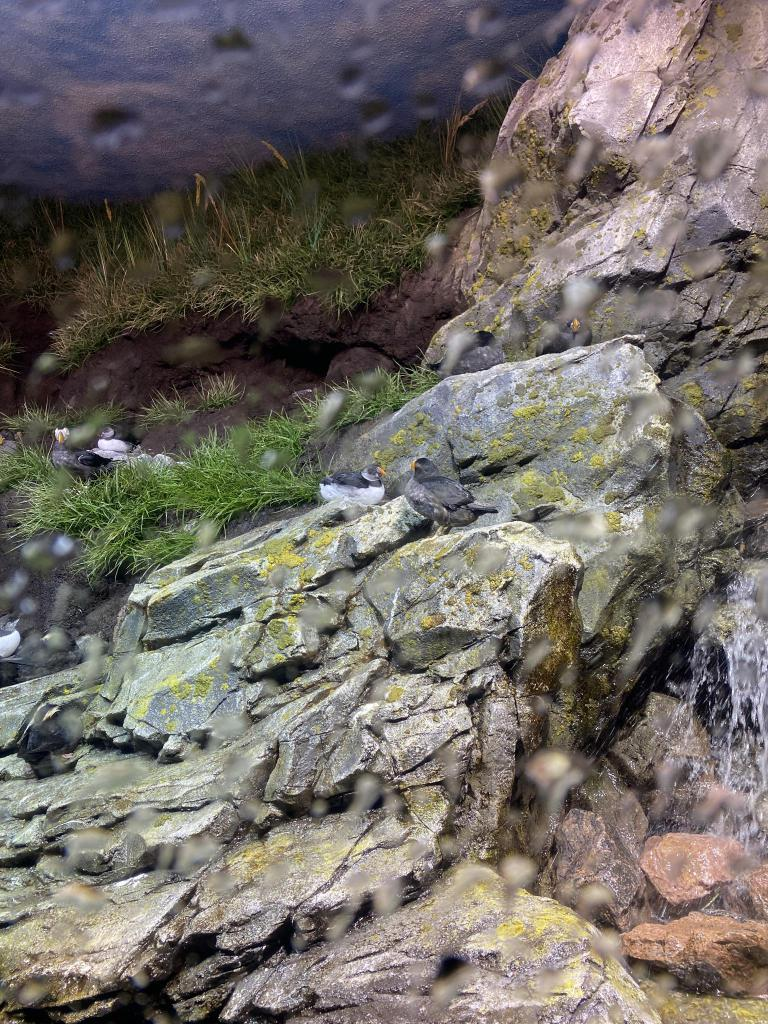puffin: (406, 457, 496, 533), (428, 330, 504, 376), (18, 705, 82, 759), (51, 426, 116, 474), (318, 463, 386, 503), (20, 626, 72, 668), (536, 314, 590, 352), (0, 613, 21, 658), (98, 426, 130, 452), (0, 428, 21, 459)
